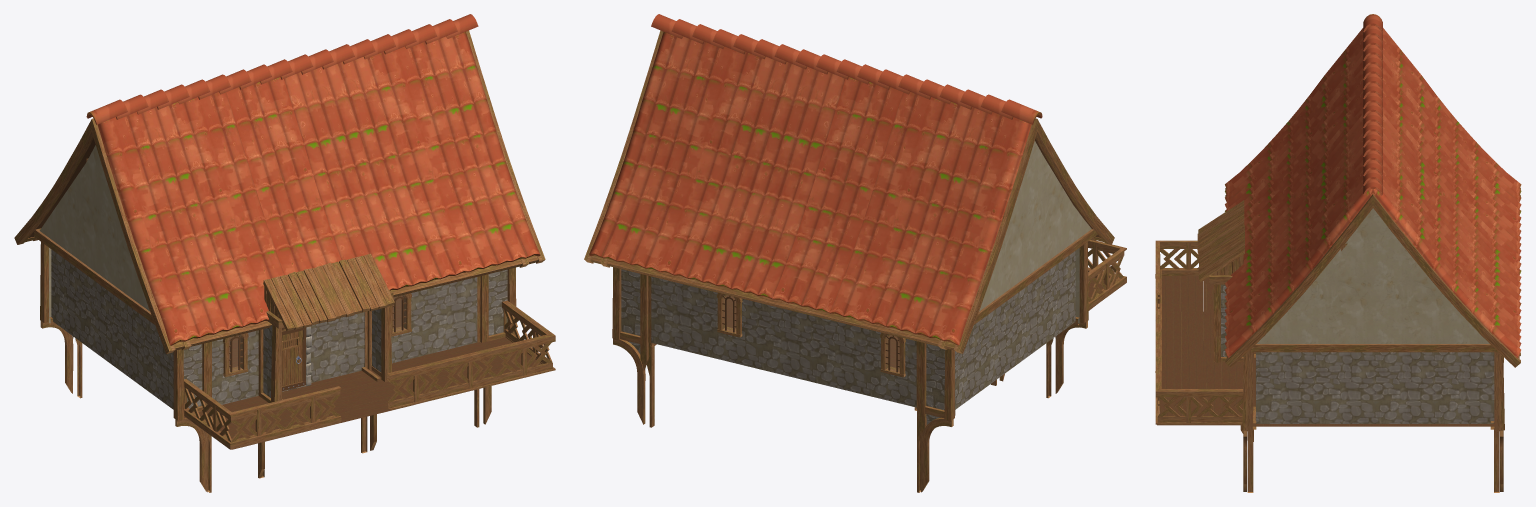
Rendered from Merchant.glb.
3 views of the same model, side by side, from view 1: azimuth 30°, elevation 25°; view 2: azimuth 150°, elevation 25°; view 3: azimuth 270°, elevation 25° (orthographic). The views are drawn at different scales.
Parts seen in each view (by area): view 1: Roof, Walls, Floor, Door; view 2: Roof, Walls, Floor; view 3: Roof, Walls, Floor.
Boxes of the visible parts, x1=… form: Roof: x1=14, y1=14, x2=545, y2=353; Walls: x1=40, y1=242, x2=555, y2=492; Floor: x1=49, y1=295, x2=555, y2=447; Door: x1=282, y1=327, x2=306, y2=391; Roof: x1=584, y1=14, x2=1114, y2=353; Walls: x1=612, y1=241, x2=1126, y2=492; Floor: x1=620, y1=240, x2=1126, y2=421; Roof: x1=1197, y1=14, x2=1521, y2=367; Walls: x1=1155, y1=236, x2=1504, y2=492; Floor: x1=1155, y1=240, x2=1496, y2=425.
Bounding box in the file's own units: 14.13 × 12.34 × 12.27.
Materials: 7 (6 with a texture image).
